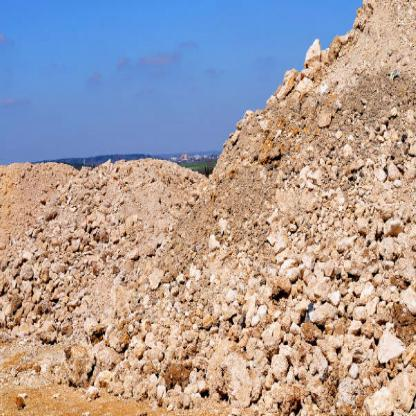Sedimentary_Limestone: (226, 339, 261, 408), (295, 35, 321, 82)
